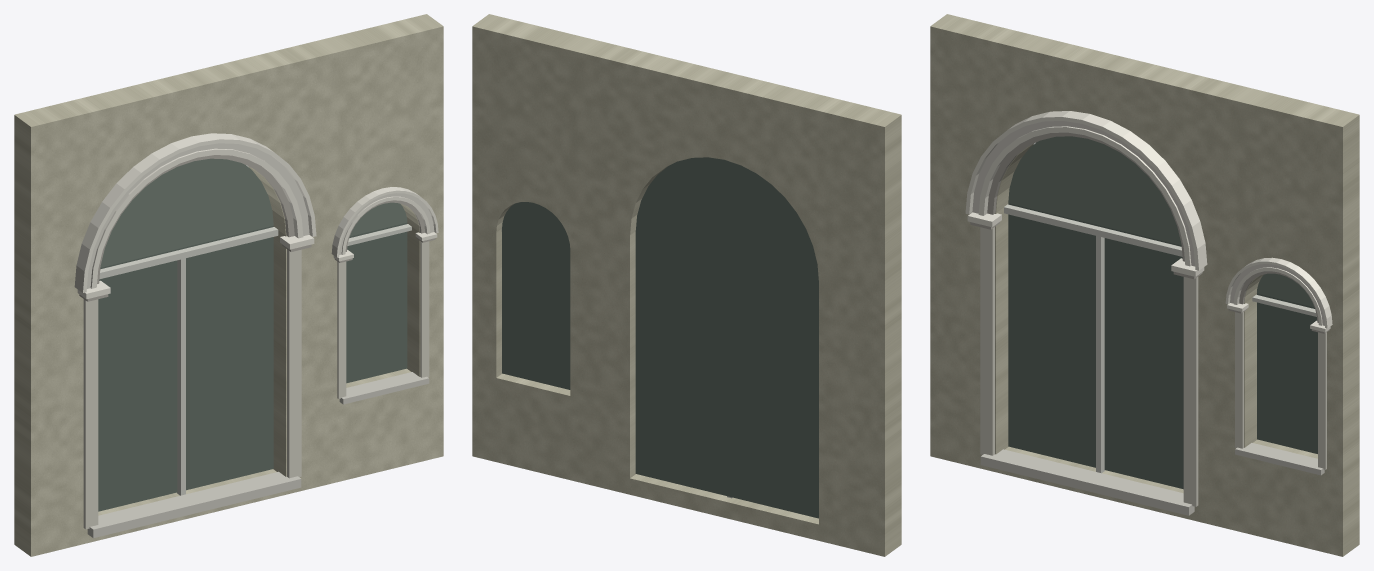
Rendered from yongjia-17-round-headed-window-far.glb.
3 renders of one model, left to right at view 1: azimuth 30°, elevation 25°; view 2: azimuth 150°, elevation 25°; view 3: azimuth 330°, elevation 25°, orthographic.
Parts seen in each view (by area): view 1: 永嘉路17号住宅大弧窗与分层券脚; view 2: 永嘉路17号住宅大弧窗与分层券脚; view 3: 永嘉路17号住宅大弧窗与分层券脚.
Part boxes in pixels (x1=…): 永嘉路17号住宅大弧窗与分层券脚: x1=14, y1=14, x2=443, y2=556; 永嘉路17号住宅大弧窗与分层券脚: x1=472, y1=14, x2=901, y2=556; 永嘉路17号住宅大弧窗与分层券脚: x1=930, y1=14, x2=1359, y2=556.
Size of the model in its own units: 4.37 by 4.35 by 0.473.
Materials: 9 (1 with a texture image).
